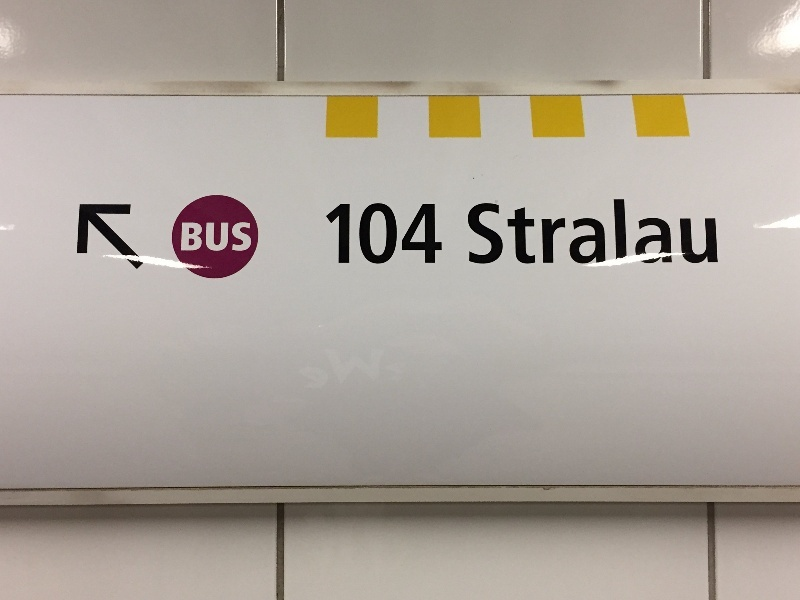text: (481, 198, 496, 266), (497, 198, 512, 266), (513, 198, 528, 266), (529, 198, 544, 266), (545, 198, 560, 266), (561, 198, 576, 266), (577, 198, 592, 266), (593, 198, 608, 266), (609, 198, 624, 266), (625, 198, 640, 266), (641, 198, 656, 266), (657, 198, 672, 266), (673, 198, 688, 266), (689, 198, 704, 266), (705, 198, 719, 266), (337, 203, 352, 263), (353, 203, 368, 263), (369, 203, 384, 263), (385, 203, 400, 263), (401, 203, 416, 263), (417, 203, 432, 263), (468, 198, 480, 266), (326, 203, 336, 263), (433, 203, 442, 263), (193, 222, 208, 251), (209, 222, 224, 251), (225, 222, 240, 251), (182, 222, 192, 251), (241, 222, 251, 251)
